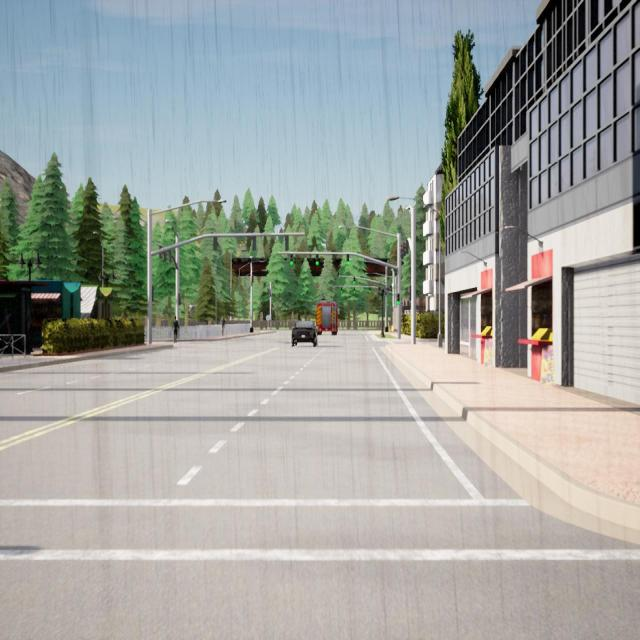Pedestrian: (172, 316, 179, 343), (220, 315, 225, 336)
Traffic_Signs: (266, 315, 271, 320)
Vehicle: (316, 301, 338, 335), (292, 321, 318, 347)
traffic_light: (285, 235, 289, 251), (213, 237, 217, 250), (253, 236, 256, 250), (400, 245, 403, 259), (403, 242, 406, 256), (406, 240, 409, 253), (159, 246, 162, 258), (290, 254, 293, 266), (316, 254, 319, 266), (397, 294, 400, 304), (409, 286, 411, 300), (179, 293, 181, 305), (347, 254, 349, 266), (164, 252, 167, 260), (170, 250, 172, 262), (353, 277, 356, 284), (252, 275, 254, 283), (152, 286, 153, 301), (340, 287, 342, 293), (353, 287, 355, 293), (369, 287, 371, 293), (268, 288, 270, 294)
